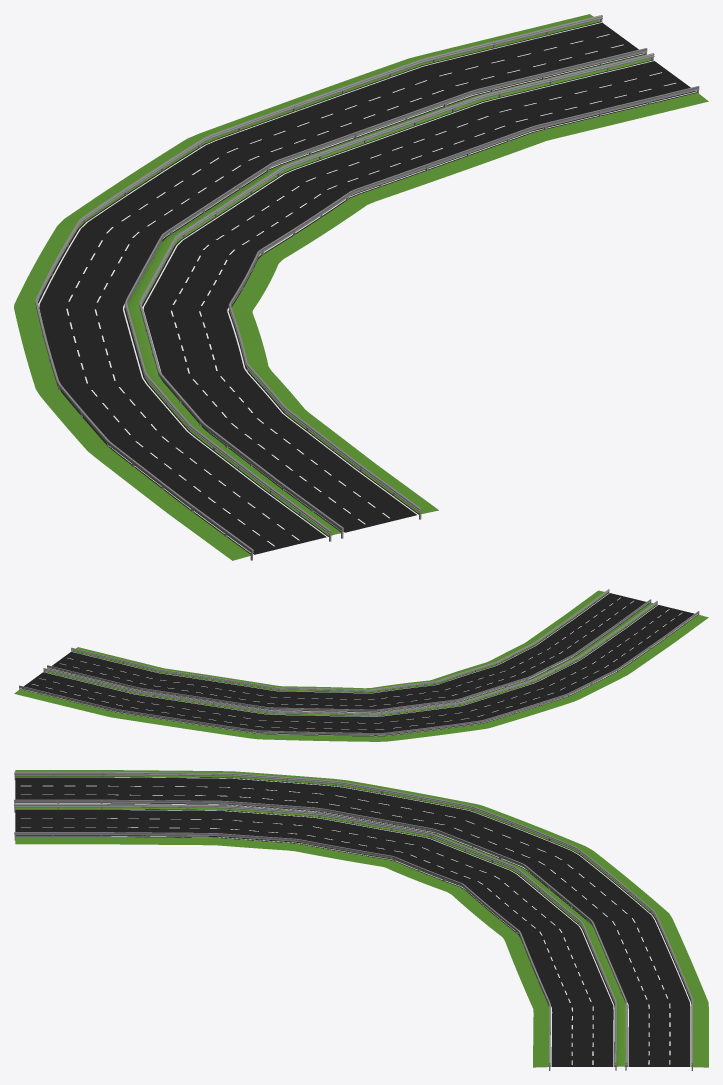
The model's file is street_Curve2_hway.fbx.
The picture shows the model from 3 angles, top to bottom: view 1: azimuth 30°, elevation 25°; view 2: azimuth 150°, elevation 25°; view 3: azimuth 270°, elevation 25°; orthographic projection. The views are drawn at different scales.
Parts seen in each view (by area): view 1: street_curve1_hway; view 2: street_curve1_hway; view 3: street_curve1_hway.
Boxes of the visible parts, <box> form: street_curve1_hway: <box>14,14,708,560</box>; street_curve1_hway: <box>14,589,708,741</box>; street_curve1_hway: <box>14,770,708,1070</box>.
Size of the model in its own units: 12829 by 160 by 12642.
